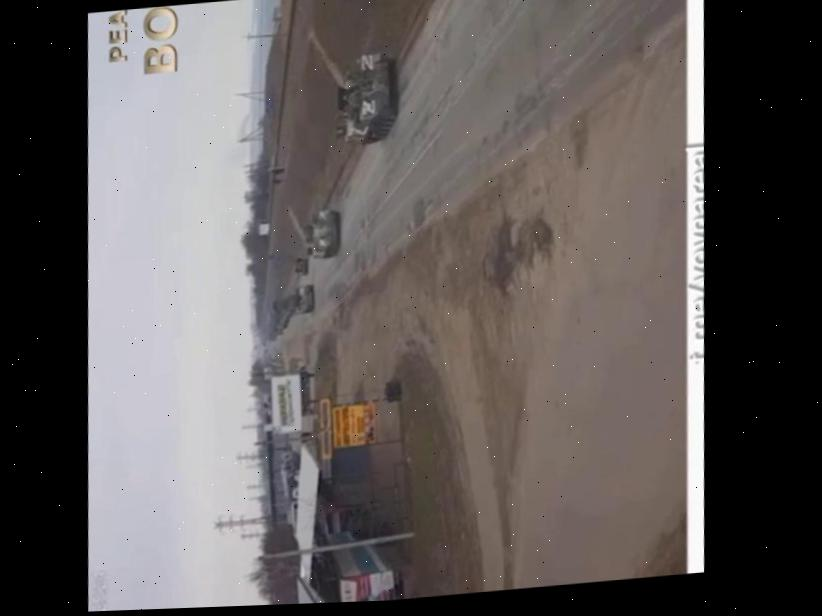tank: (328, 49, 402, 150), (301, 207, 342, 262), (288, 278, 320, 318)
